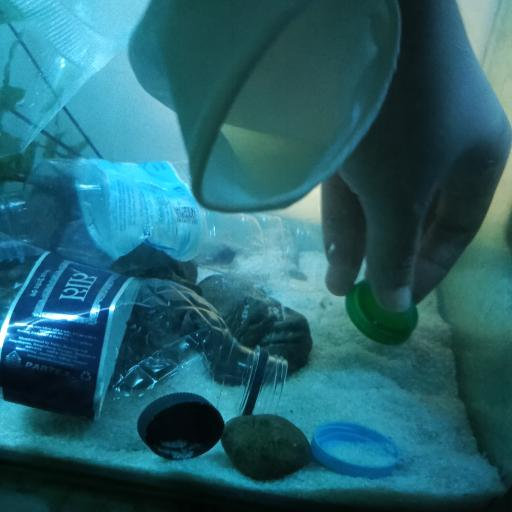bottle_cap: (138, 391, 224, 462), (312, 419, 403, 479), (344, 280, 419, 344)
glove: (129, 0, 400, 213)
plastic_bottle: (0, 228, 290, 426), (0, 159, 318, 282)
plastic_cup: (0, 0, 123, 160)
